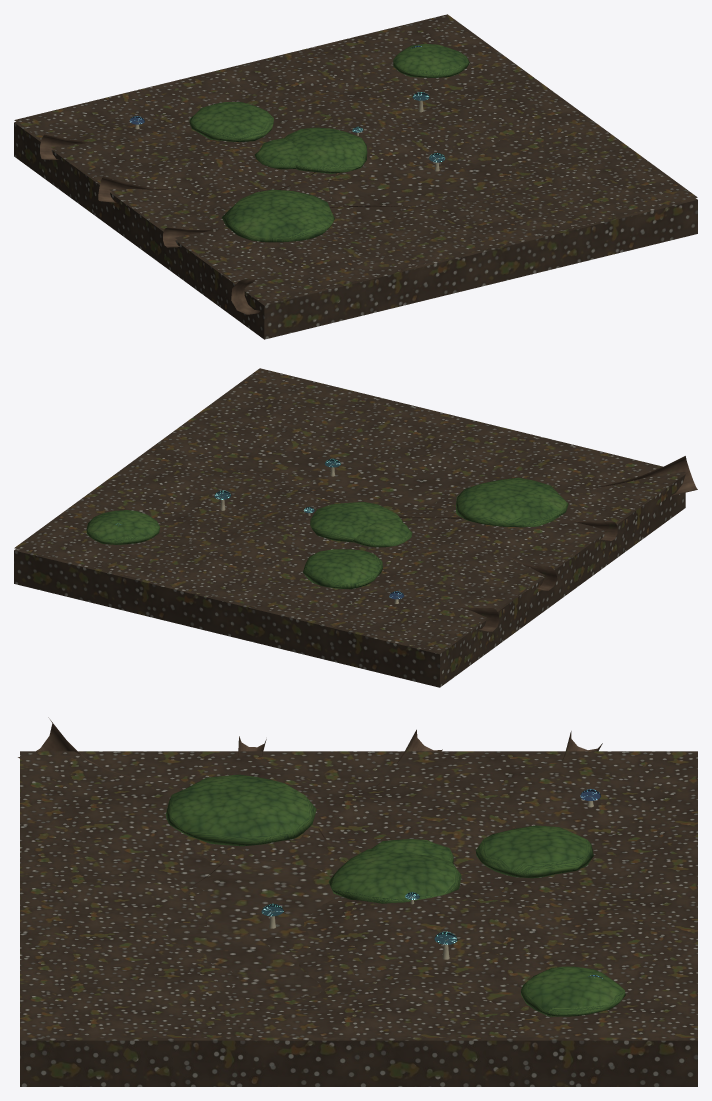
The model's file is mod_floor_root_soil_4m.glb.
The picture shows the model from 3 angles, top to bottom: view 1: azimuth 30°, elevation 25°; view 2: azimuth 150°, elevation 25°; view 3: azimuth 270°, elevation 25°; orthographic projection. The views are drawn at different scales.
Visible parts, largest first — view 1: mod_floor_root_soil_4m__soil, mod_floor_root_soil_4m__moss, mod_floor_root_soil_4m__root; view 2: mod_floor_root_soil_4m__soil, mod_floor_root_soil_4m__moss, mod_floor_root_soil_4m__root; view 3: mod_floor_root_soil_4m__soil, mod_floor_root_soil_4m__moss, mod_floor_root_soil_4m__root, mod_floor_root_soil_4m__glowcap_teal.
Boxes of the visible parts, x1,y1,x2,y2 form: mod_floor_root_soil_4m__soil: (14, 14, 697, 339); mod_floor_root_soil_4m__moss: (189, 43, 469, 242); mod_floor_root_soil_4m__root: (40, 134, 471, 314); mod_floor_root_soil_4m__soil: (14, 368, 685, 687); mod_floor_root_soil_4m__moss: (86, 477, 568, 589); mod_floor_root_soil_4m__root: (374, 456, 697, 631); mod_floor_root_soil_4m__soil: (20, 751, 697, 1086); mod_floor_root_soil_4m__moss: (165, 774, 625, 1016); mod_floor_root_soil_4m__root: (18, 717, 602, 887); mod_floor_root_soil_4m__glowcap_teal: (261, 892, 457, 944).
Size of the model in its own units: 4.21 by 0.5163 by 4.04.
Materials: 6 (6 with a texture image).
